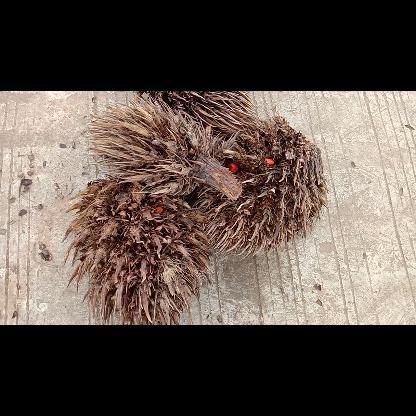Janjang kosong: (61, 180, 219, 324), (223, 106, 329, 262), (86, 100, 242, 202), (138, 92, 262, 142)
